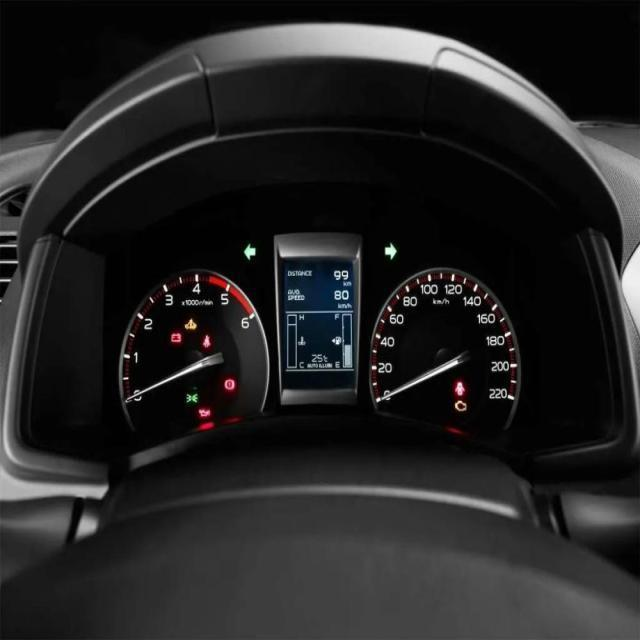Seat Belt: (202, 334, 210, 348)
